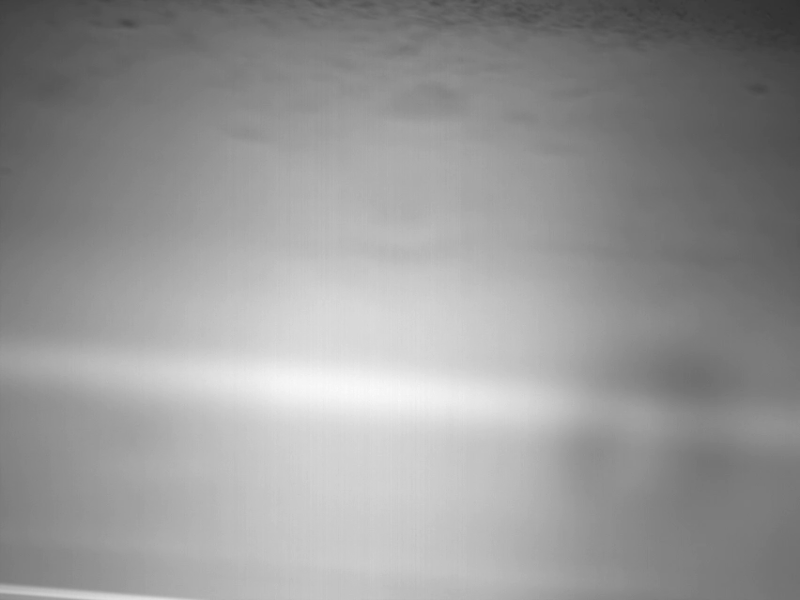bead: (556, 340, 787, 594)
